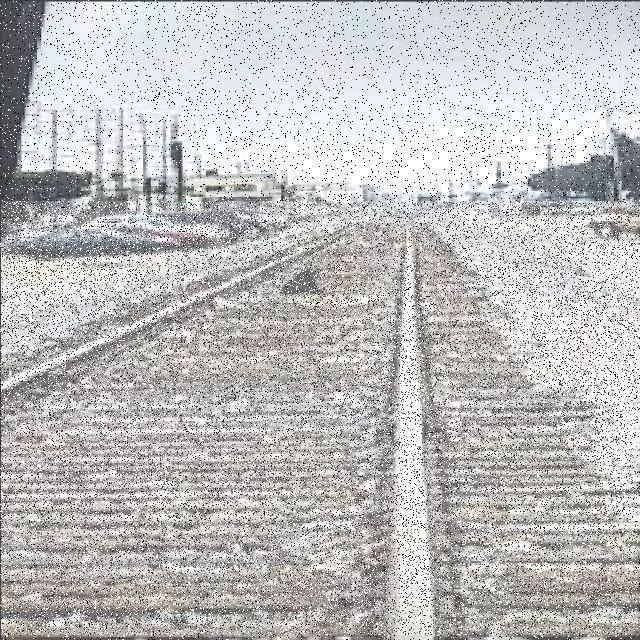rail: (3, 203, 639, 636)
